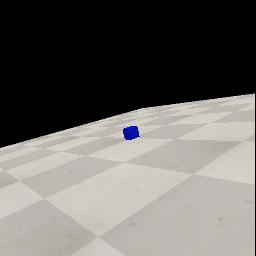box: (123, 126, 140, 140)
